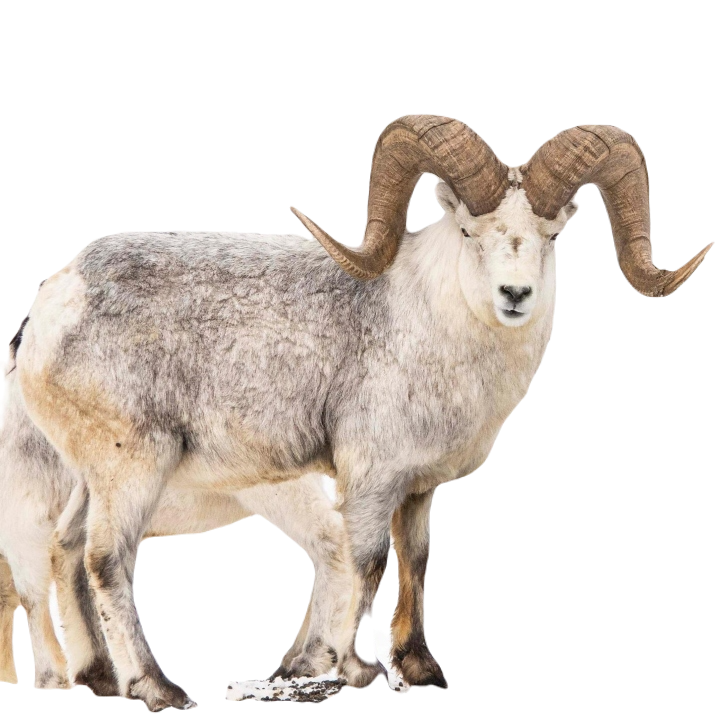Sheep: (12, 112, 719, 719)
